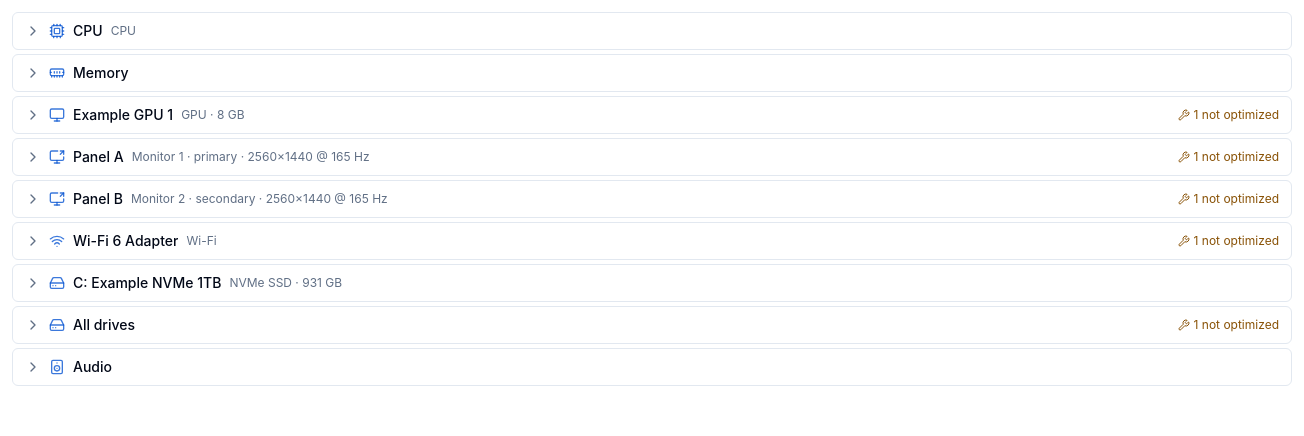
Test: DeviceList › says so when a selected device has nothing to tune
The image size is (1304, 436).
Click the button "C: Example NVMe 1TB NVMe SSD · 931 GB" at (147, 282), box [13,265,1291,301]
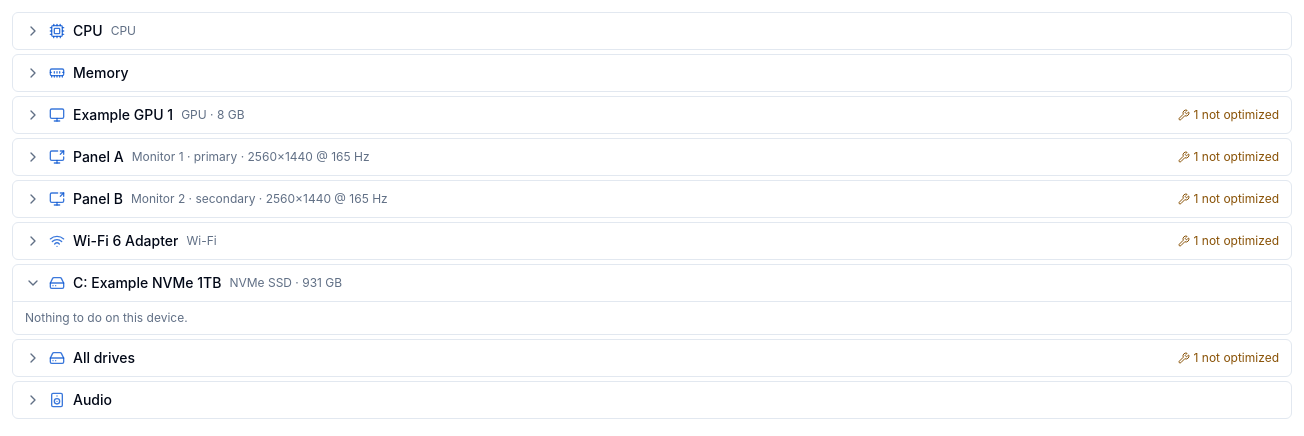
Expected: the text "Nothing to do on this device." is shown, [25,310,188,325]
